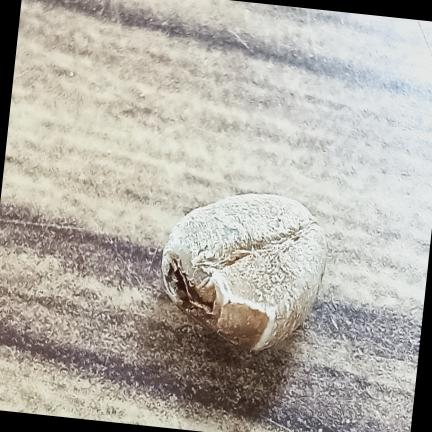cut: (162, 194, 327, 350)
